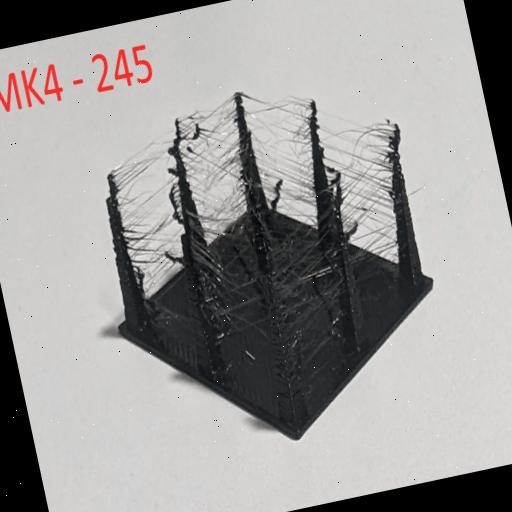stringing: (268, 209, 358, 389), (192, 188, 268, 367), (117, 125, 189, 307), (174, 89, 245, 246), (242, 90, 316, 229), (317, 110, 392, 242), (349, 122, 399, 262)
